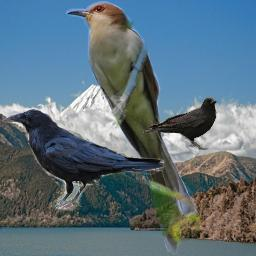Crow: (2, 108, 166, 212), (143, 97, 217, 150)
Cuckoo: (66, 1, 200, 255)
